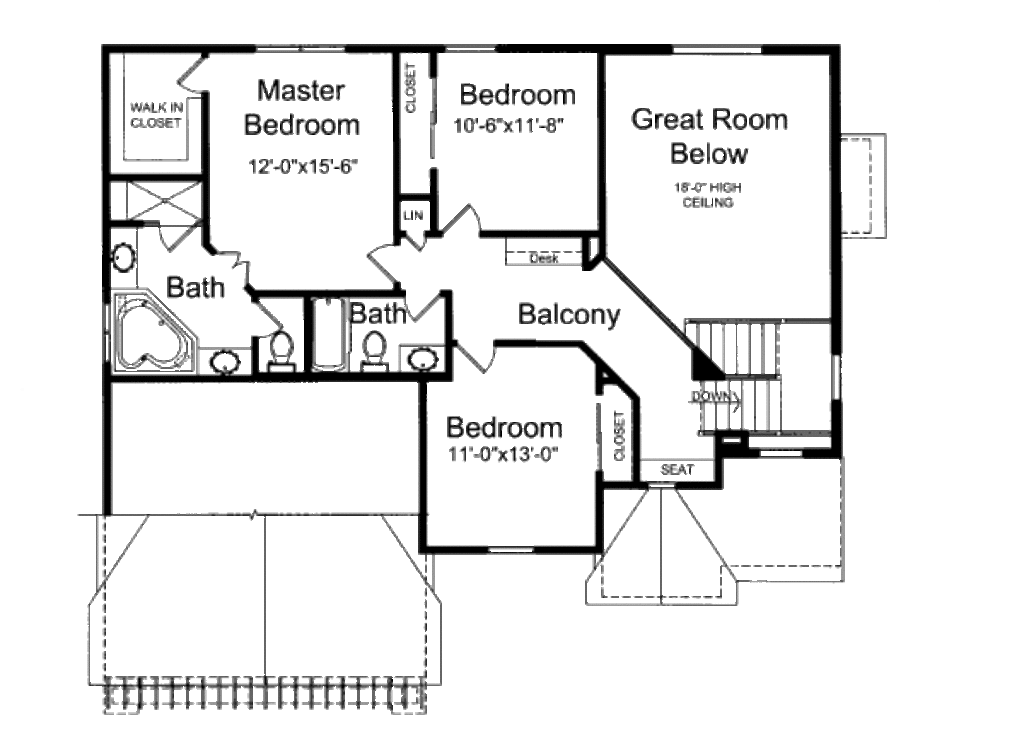door: (213, 247, 254, 294), (438, 199, 481, 243), (454, 331, 496, 376), (177, 55, 213, 107), (365, 240, 402, 287), (399, 291, 446, 321), (249, 299, 284, 338), (155, 218, 196, 251)
large_sink: (352, 329, 391, 375), (263, 332, 301, 379)
small_sink: (194, 343, 254, 380), (104, 225, 139, 287), (394, 346, 445, 375)
stairs: (676, 317, 834, 436)
tub: (111, 291, 194, 374), (310, 293, 346, 373)
windows: (249, 38, 350, 56), (661, 40, 765, 57), (445, 37, 498, 57), (477, 544, 541, 560)
